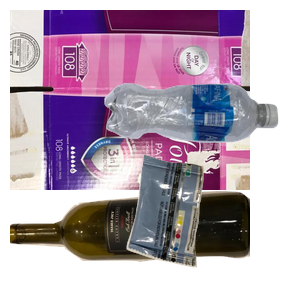cardboard: (10, 10, 250, 190)
glass: (10, 189, 250, 300)
plastic: (102, 81, 300, 216)
trash: (124, 152, 300, 300)
